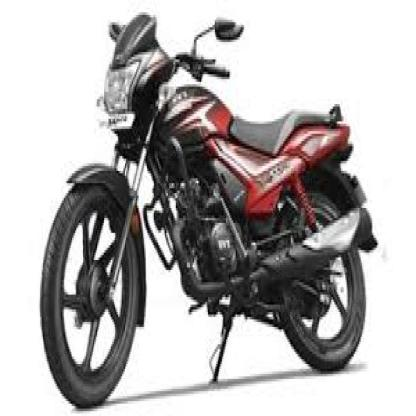bike: (39, 15, 379, 411)
